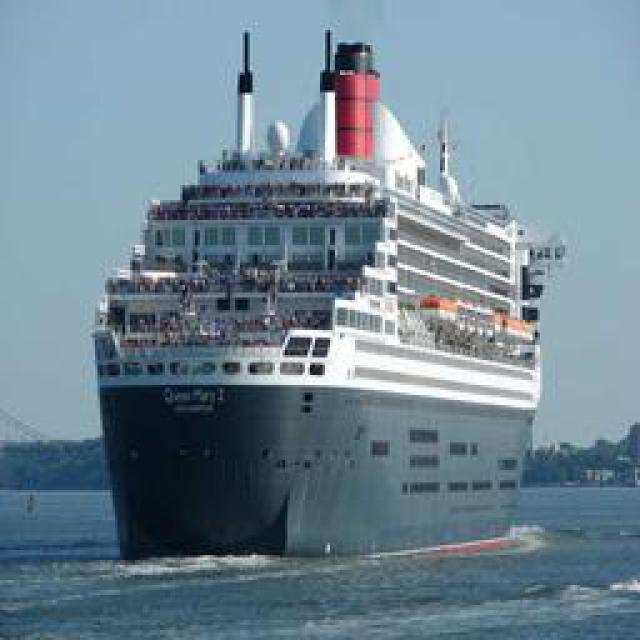Ship: (92, 11, 552, 576)
